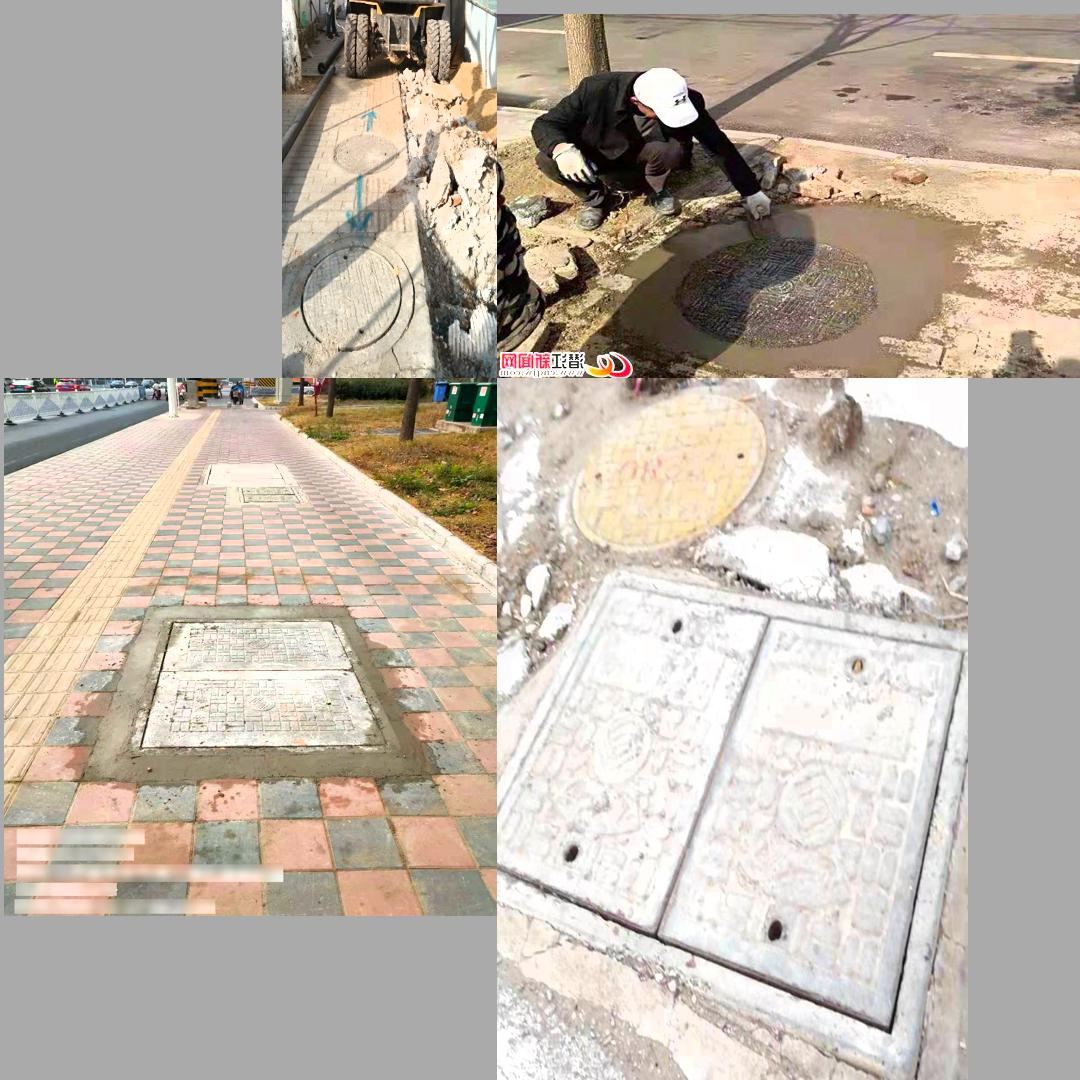good: (497, 566, 968, 1080), (623, 198, 954, 370), (121, 617, 402, 754), (571, 388, 768, 552), (287, 235, 413, 367), (331, 132, 396, 175)
